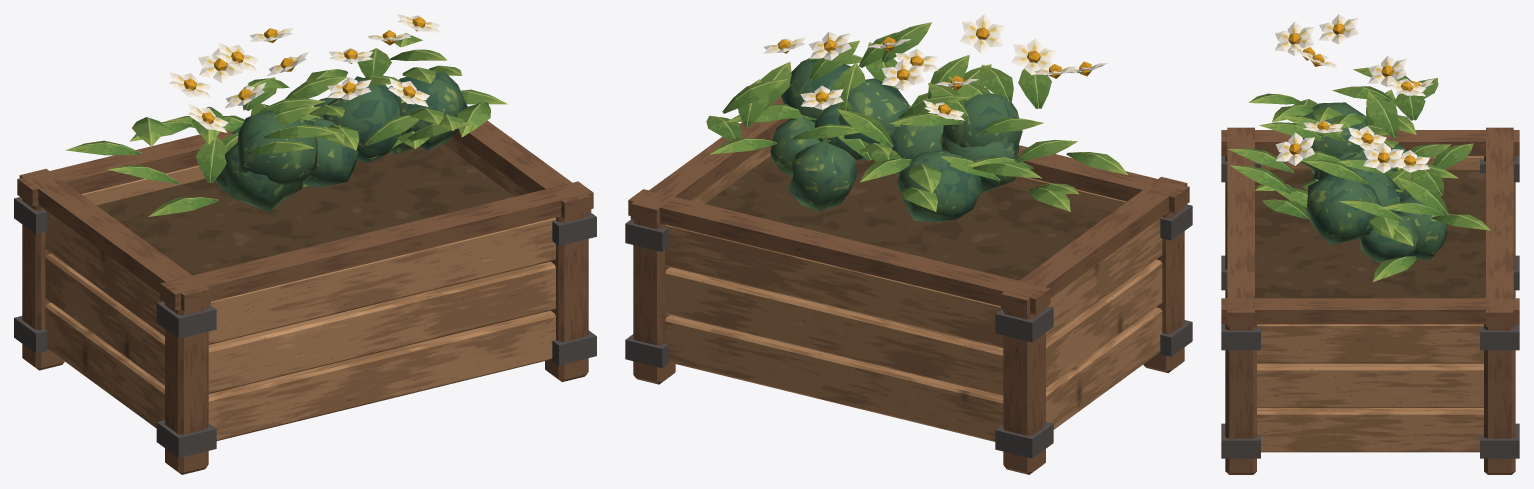
Rendered from wooden_planter.glb.
3 views of the same model, side by side, from view 1: azimuth 30°, elevation 25°; view 2: azimuth 150°, elevation 25°; view 3: azimuth 270°, elevation 25° (orthographic). The views are drawn at different scales.
Visible parts, largest first — view 1: wooden_planter_wooden_box, wooden_planter_plant_insert, wooden_planter_soil; view 2: wooden_planter_wooden_box, wooden_planter_plant_insert, wooden_planter_soil; view 3: wooden_planter_wooden_box, wooden_planter_plant_insert, wooden_planter_soil.
Part boxes in pixels (bbox=[...]): wooden_planter_wooden_box: bbox=[14, 106, 596, 474]; wooden_planter_plant_insert: bbox=[66, 14, 507, 216]; wooden_planter_soil: bbox=[97, 144, 514, 275]; wooden_planter_wooden_box: bbox=[625, 96, 1192, 474]; wooden_planter_plant_insert: bbox=[706, 14, 1127, 221]; wooden_planter_soil: bbox=[705, 156, 1111, 280]; wooden_planter_wooden_box: bbox=[1221, 127, 1519, 474]; wooden_planter_plant_insert: bbox=[1228, 14, 1490, 281]; wooden_planter_soil: bbox=[1255, 170, 1485, 298].
Size of what is drawn, in the model's own units: 1.1 by 0.8741 by 0.75.
8 materials, 8 textured.
